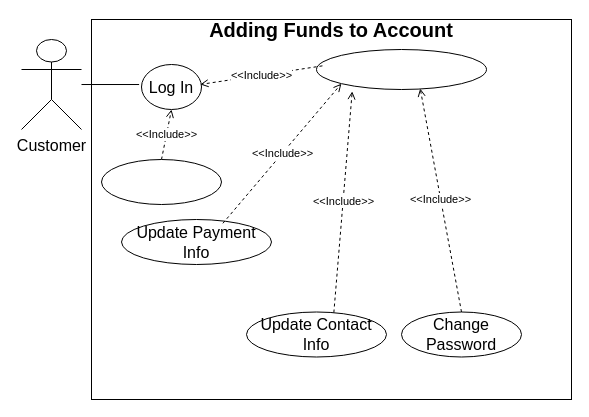
The diagram is 589 pixels wide and 417 high, and some of its shapes have lost their labels. The box of each missing label's shape, as (x1, y1, x2, y2) in pixels:
Add Funds: (100, 158, 222, 204)
Edit Account Details: (316, 48, 486, 90)
